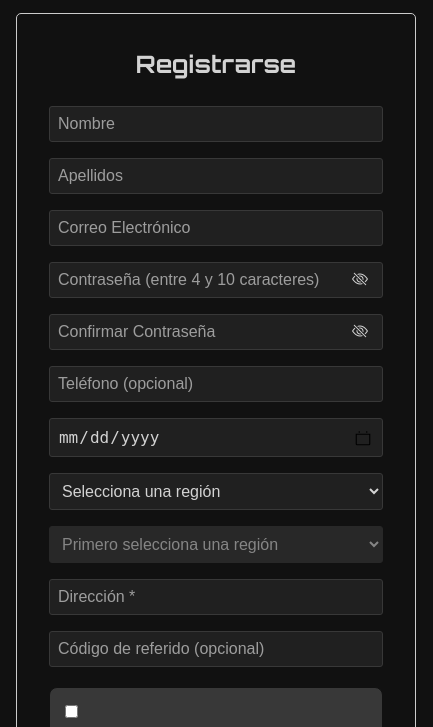
Register › Debería mostrar error cuando la contraseña es muy corta
This screenshot has width=433, height=727.
Type "Juan" into the field with placeholder "Nombre".
click(216, 124); type("Juan")  # box [49, 106, 383, 142]
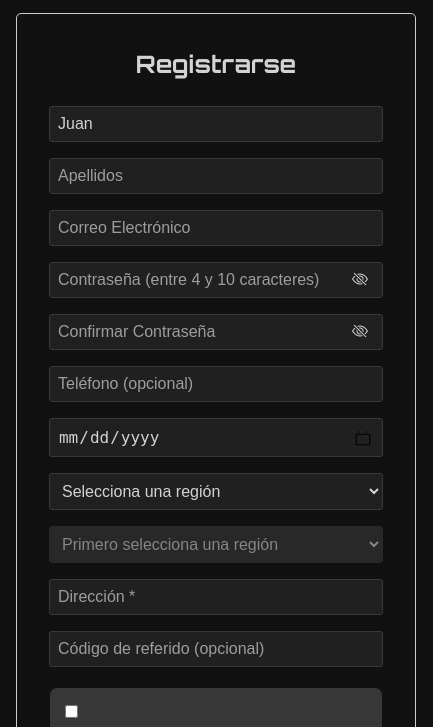
Type "juan@example.com" into the field with placeholder "Correo Electrónico".
click(216, 228); type("juan@example.com")  # box [49, 210, 383, 246]
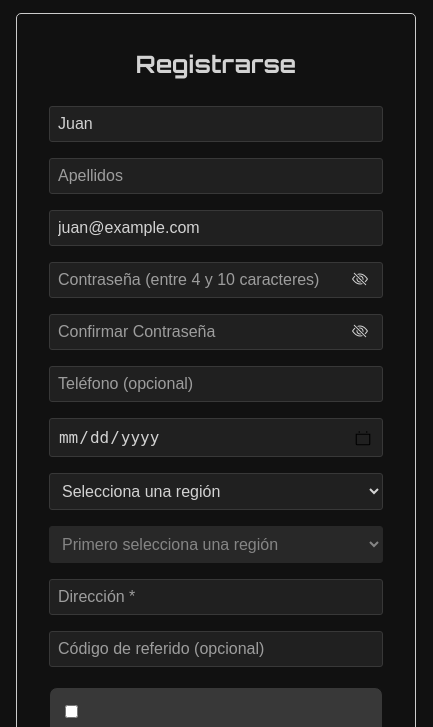
Type "12" into the password field with placeholder "Contraseña (entre 4 y 10 caracteres)".
click(216, 280); type("12")  # box [49, 262, 383, 298]
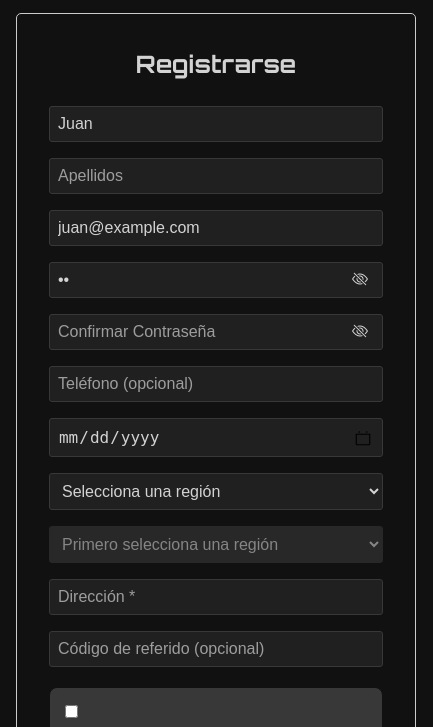
Type "12" into the password field with placeholder "Confirmar Contraseña".
click(216, 332); type("12")  # box [49, 314, 383, 350]
(page scrolled)
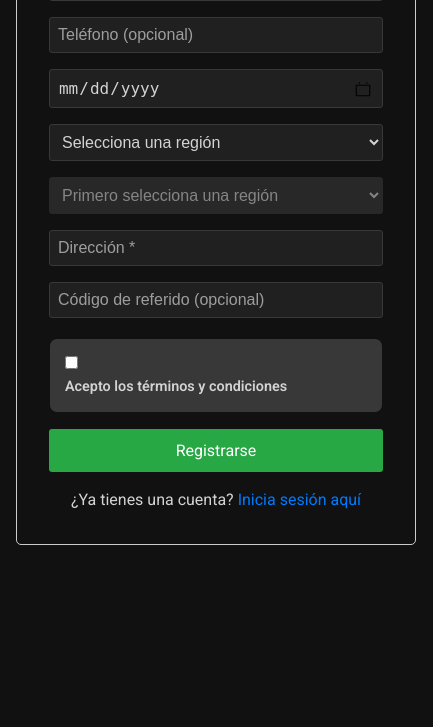
Click the button "Registrarse".
click(216, 450)  # box [49, 429, 383, 472]
(page scrolled)
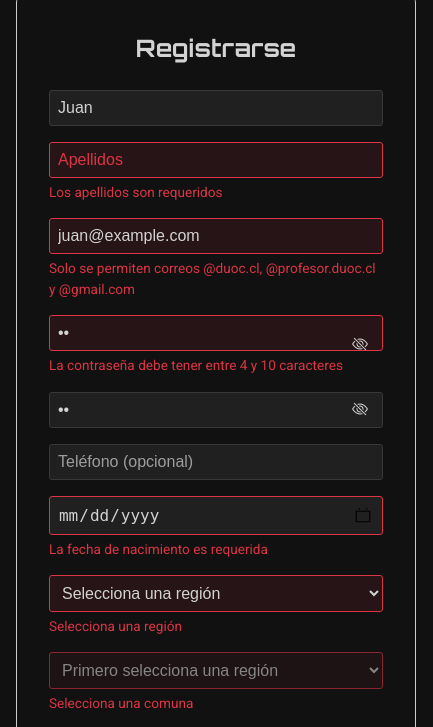
Expected: the text "La contraseña debe tener entre 4 y 10 caracteres" is shown, [49, 355, 383, 376]
